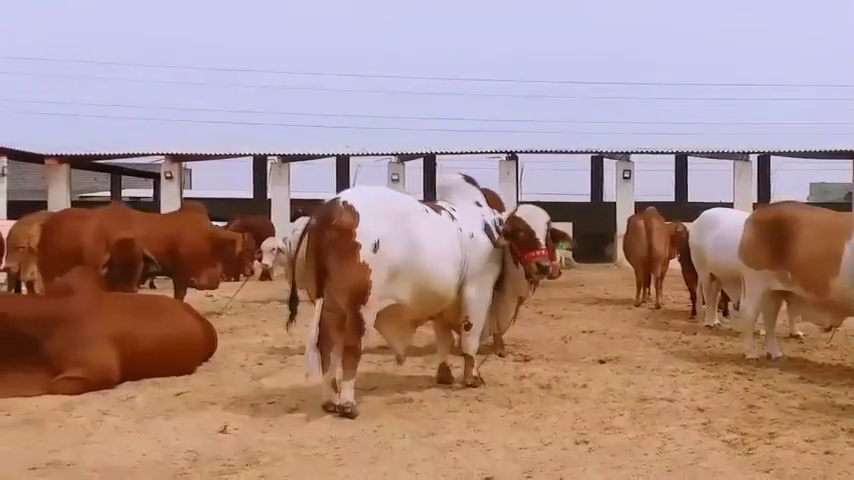bo: (292, 169, 592, 434), (4, 269, 218, 409), (464, 178, 576, 372), (736, 189, 854, 368), (115, 195, 253, 307), (28, 188, 151, 301), (678, 195, 767, 347), (606, 182, 693, 319), (4, 205, 46, 290), (253, 230, 302, 290), (223, 201, 273, 247)
